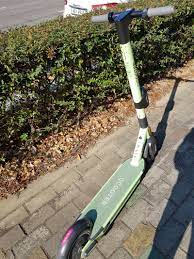kick_board: (56, 6, 177, 259)
kick_handler: (91, 5, 175, 42)
kick_neck: (123, 48, 149, 135)
kick_wheel: (57, 220, 97, 259), (142, 137, 158, 159)
